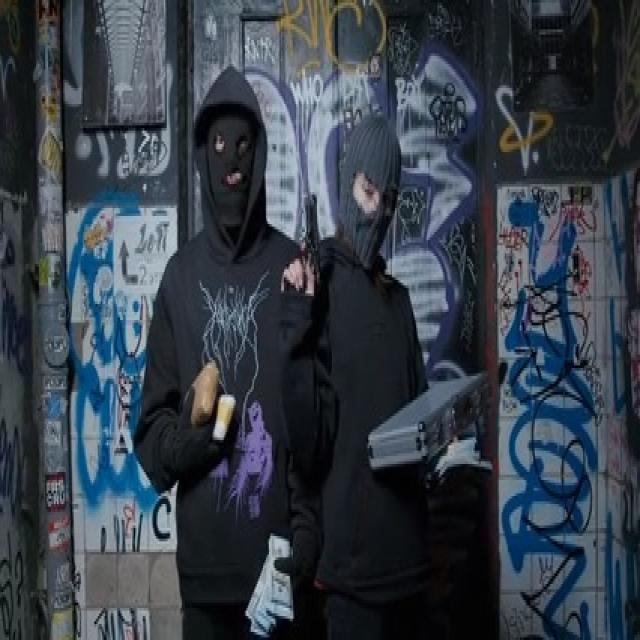Gun_Holder: (276, 188, 336, 320)
Person: (127, 66, 308, 640), (293, 96, 452, 640)
